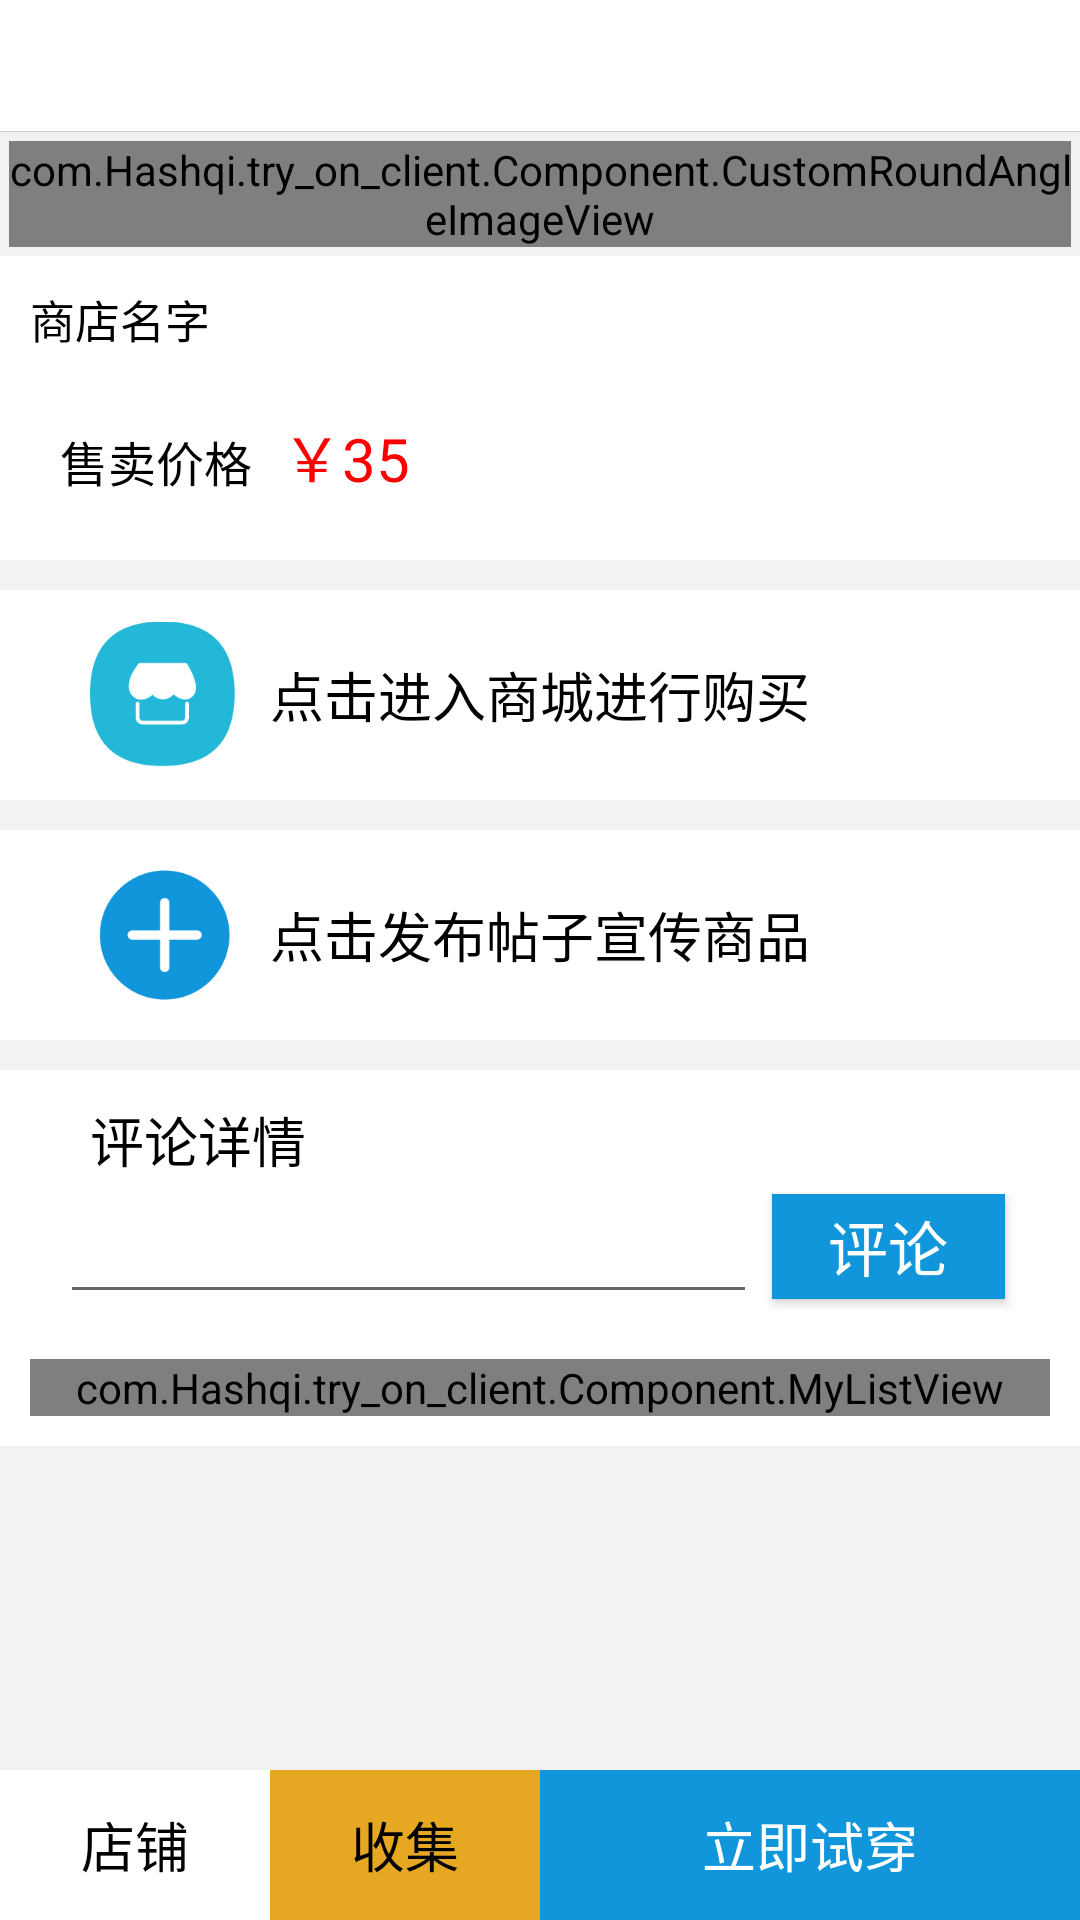

Named icons in this screenshot (1080 x 1920) and their bounding boxes, (x1,y1,x2,y2):
addfill: (99,870,230,1000)
link shop: (90,622,235,767)
